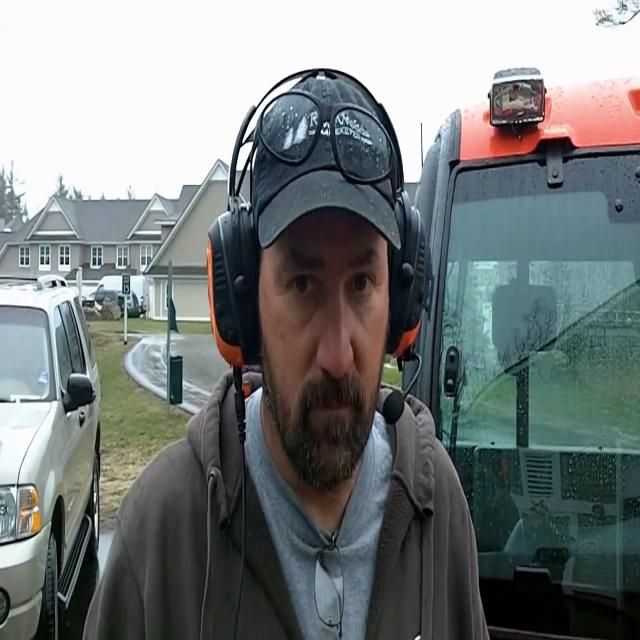earmuff: (214, 239, 256, 352), (407, 225, 431, 297)
